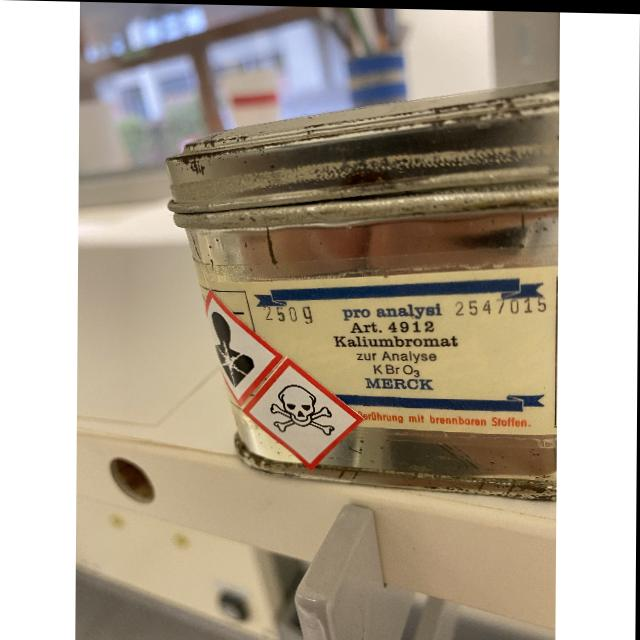acute toxicity: (270, 381, 335, 435)
serious health hazard: (211, 310, 255, 386)
